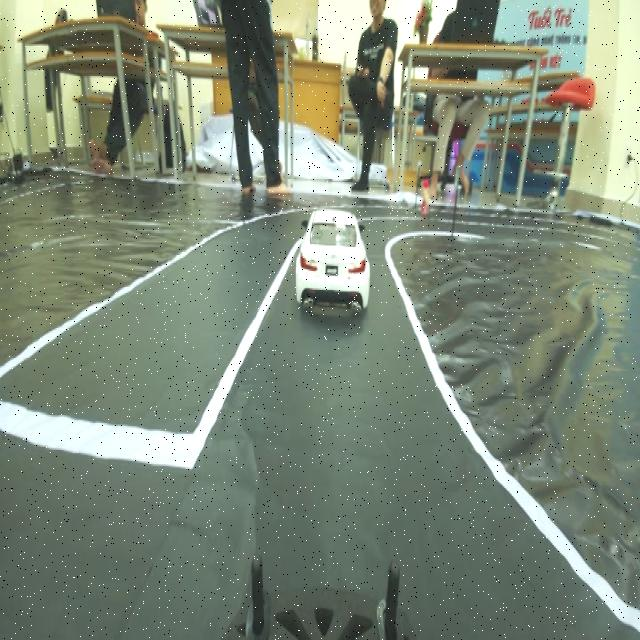car: (290, 194, 372, 318)
